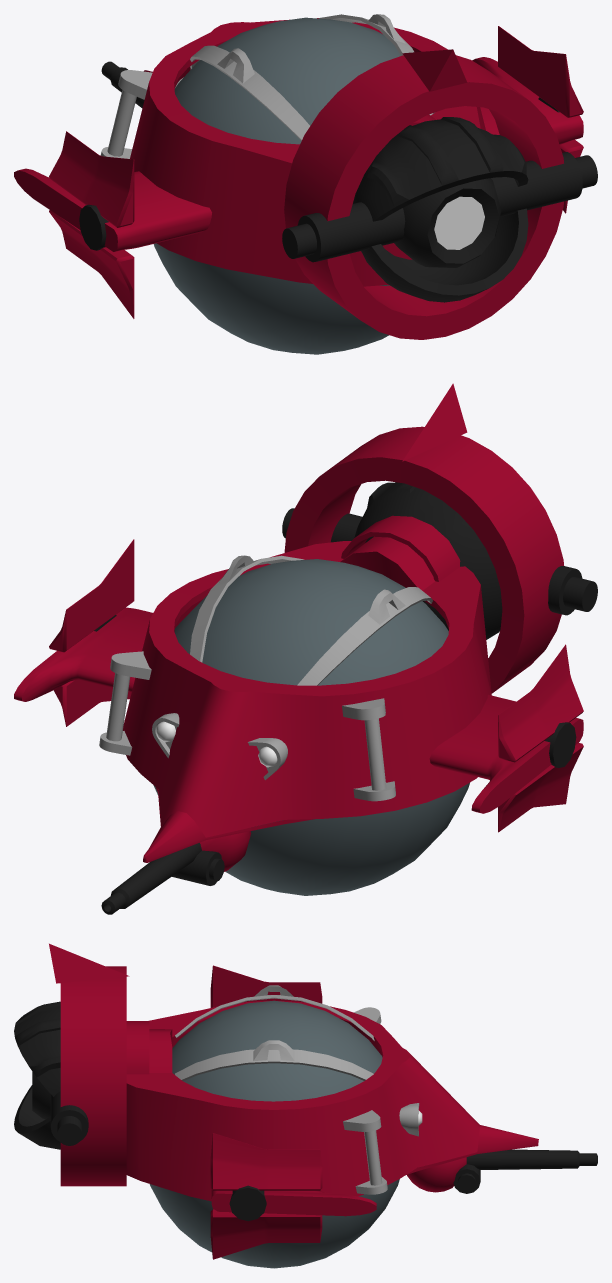
File: Machine5.fbx
The picture shows the model from 3 angles, top to bottom: view 1: azimuth 30°, elevation 25°; view 2: azimuth 150°, elevation 25°; view 3: azimuth 270°, elevation 25°; orthographic projection. The views are drawn at different scales.
Parts seen in each view (by area): view 1: Machine5, Ball5; view 2: Machine5, Ball5; view 3: Machine5, Ball5.
Boxes of the visible parts, x1,y1,x2,y2 form: Machine5: (14,14,597,339); Ball5: (153,17,434,354); Machine5: (14,383,597,914); Ball5: (153,559,469,895); Machine5: (14,943,597,1259); Ball5: (149,1000,399,1268).
Bounding box in the file's own units: 324 × 257 × 436.
